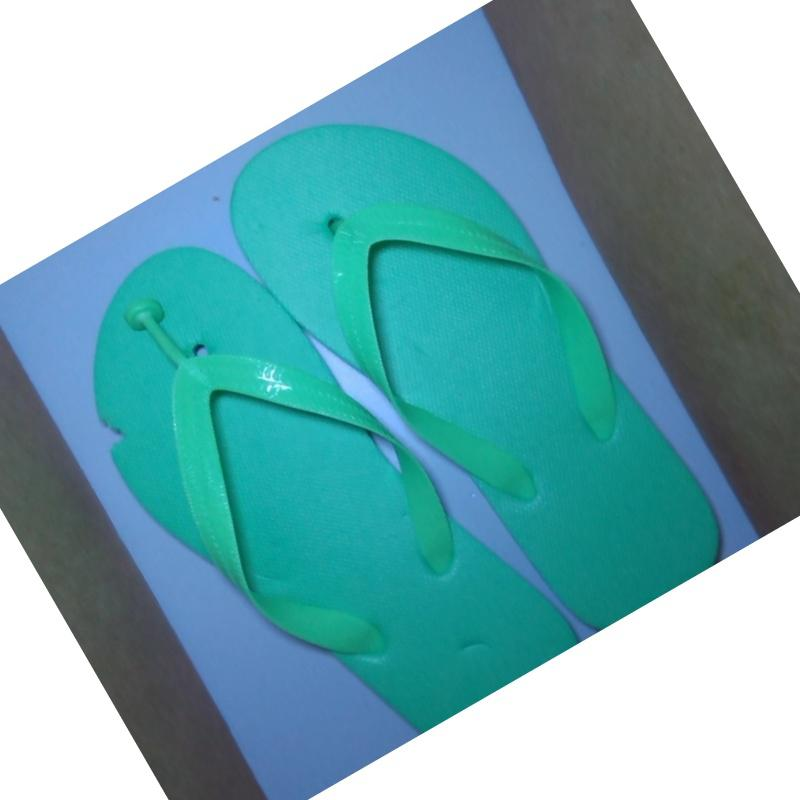chipped: (89, 404, 140, 466)
detached: (114, 290, 179, 348)
